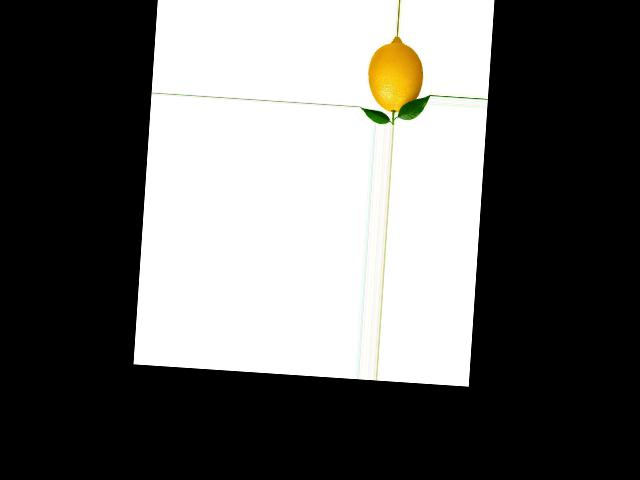lemon: (363, 36, 428, 121)
